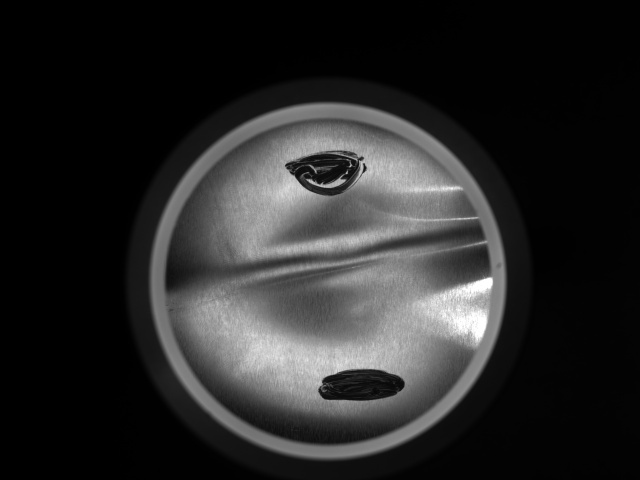zang_wu: (283, 149, 370, 198)
zhe_zhou: (209, 147, 447, 412), (315, 367, 409, 402)
